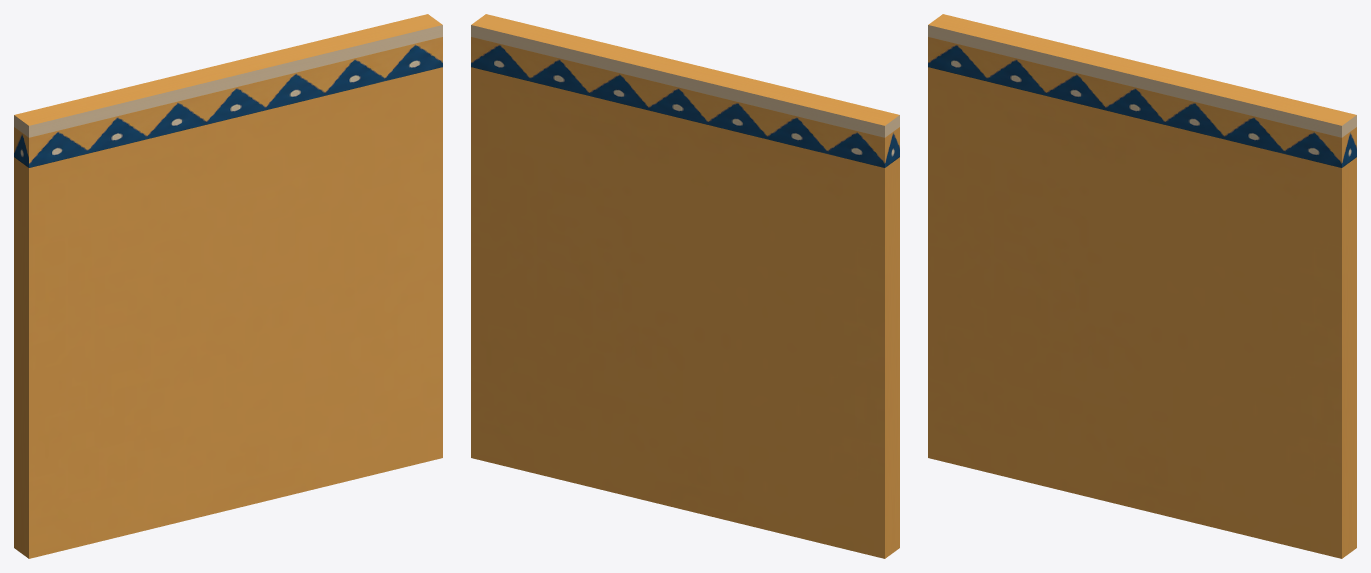
File: rc_wa_wall_8x8.glb
3 views of the same model, side by side, from view 1: azimuth 30°, elevation 25°; view 2: azimuth 150°, elevation 25°; view 3: azimuth 330°, elevation 25° (orthographic).
Parts seen in each view (by area): view 1: SM_RC_WA_Wall_8x8; view 2: SM_RC_WA_Wall_8x8; view 3: SM_RC_WA_Wall_8x8.
Boxes of the visible parts, x1,y1,x2,y2 form: SM_RC_WA_Wall_8x8: (14,14,442,558); SM_RC_WA_Wall_8x8: (471,14,899,558); SM_RC_WA_Wall_8x8: (928,14,1356,558).
Size of the model in its own units: 8 by 8 by 0.5.
1 material, 1 textured.
